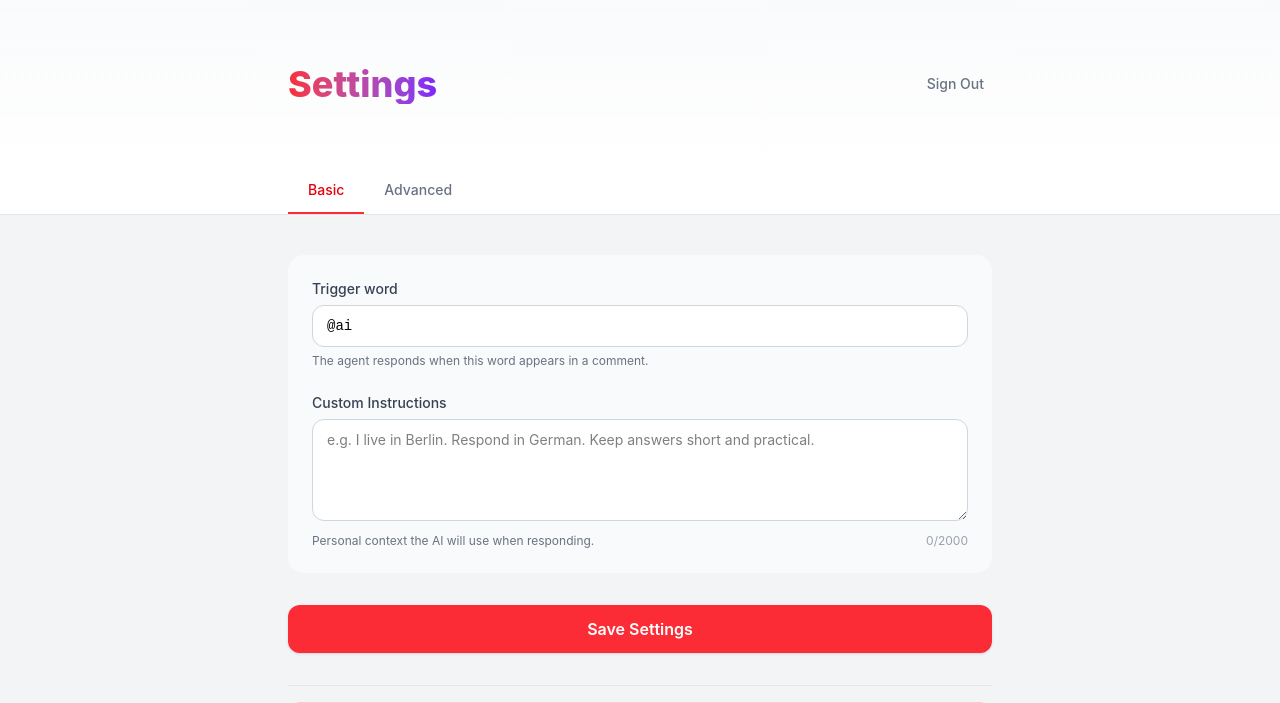
Scenario: Settings: display › shows (key set) placeholder when custom AI key exists
Expected: the heading "Settings" is shown, [288,64,437,104]
Click the tab "Advanced" at [418, 191], box [364,168,472,214]
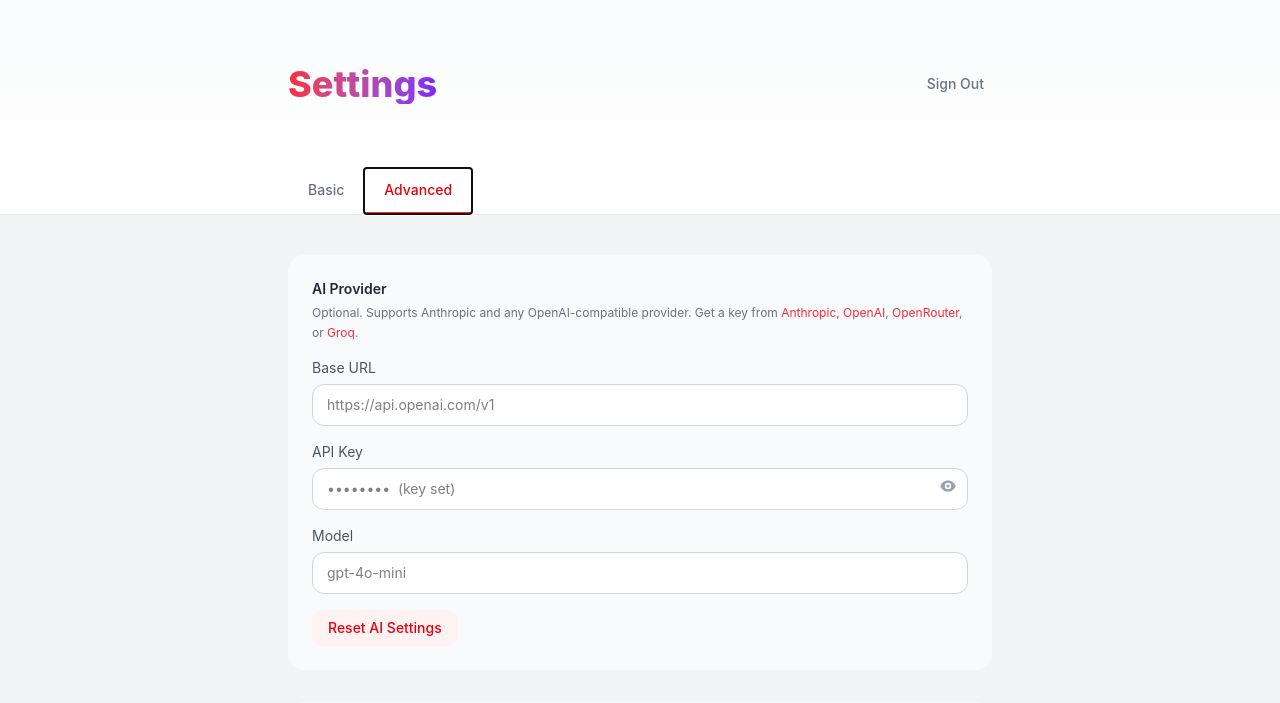
Expected: the password field with placeholder "•••••••• (key set)" is shown, [312,468,968,510]
